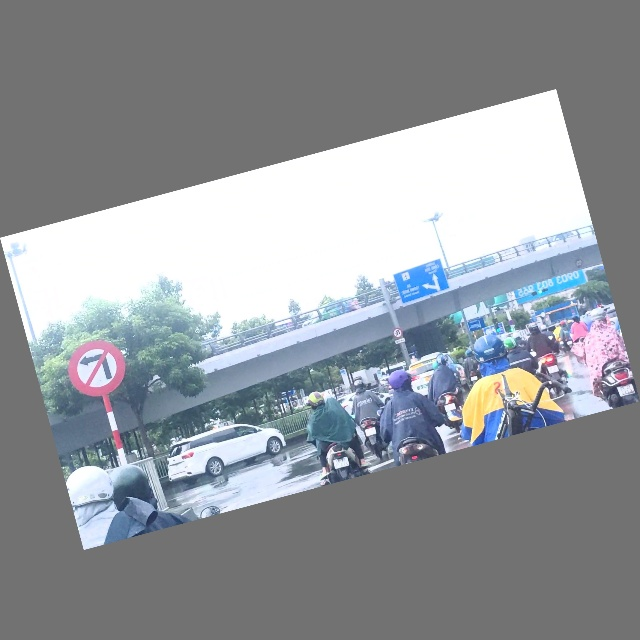P.123b: (61, 334, 135, 404)
P.124b1: (391, 327, 404, 341)
